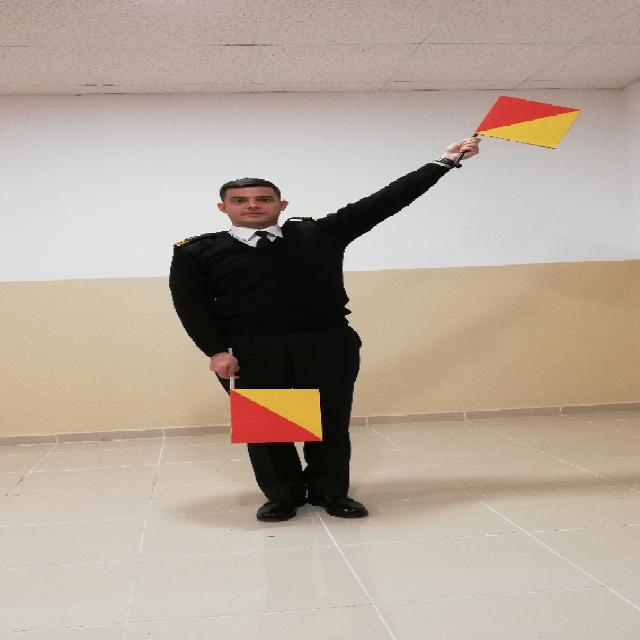E: (167, 96, 561, 535)
